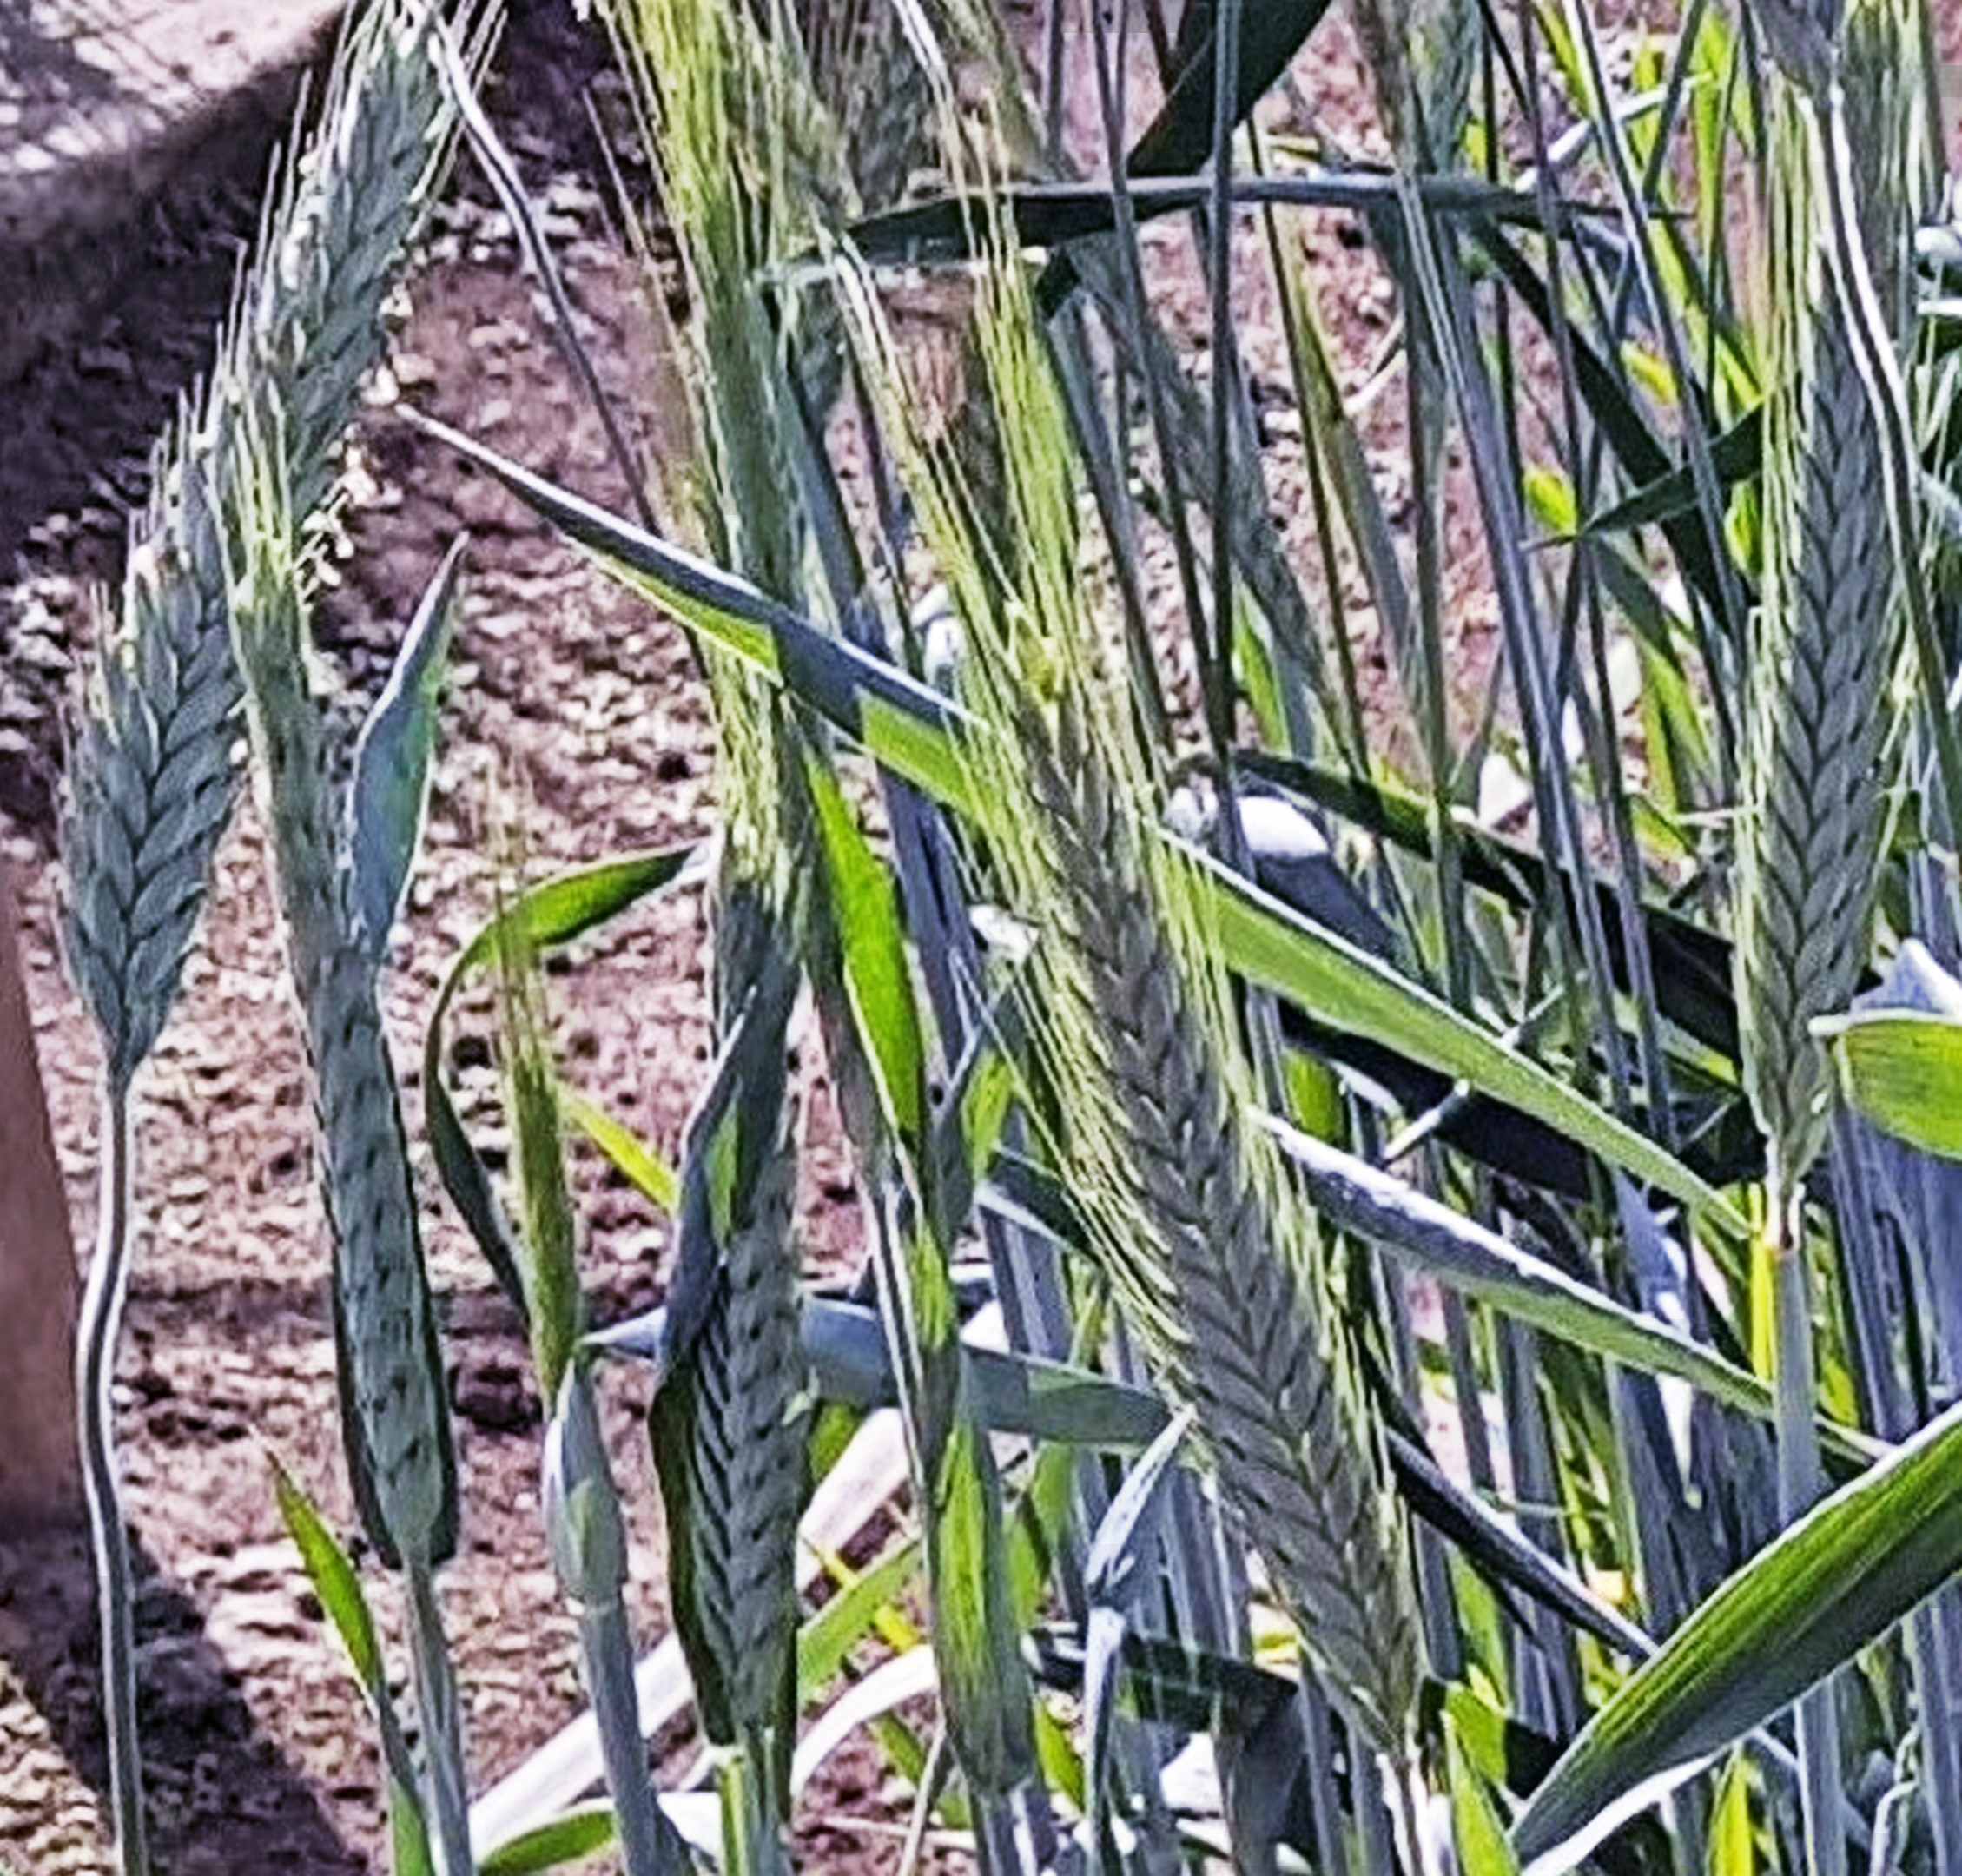Healthy Wheat: (1006, 718, 1480, 1746), (63, 23, 489, 1056), (1727, 201, 1962, 1168)
